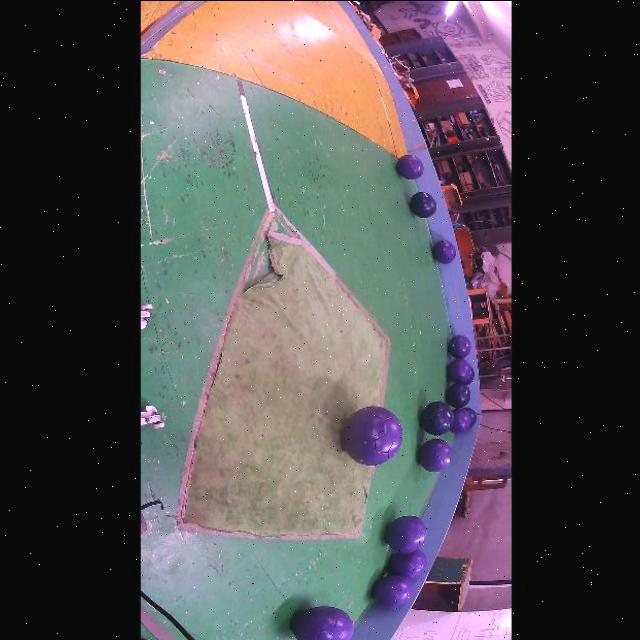B: (420, 400, 453, 434), (410, 191, 437, 217), (446, 382, 470, 407), (464, 407, 477, 427)
P: (341, 405, 402, 465), (292, 605, 354, 640), (385, 515, 426, 553), (371, 574, 412, 607), (417, 438, 452, 471), (389, 549, 428, 578), (396, 154, 424, 178), (447, 358, 472, 382), (432, 239, 456, 263), (448, 334, 470, 358), (450, 407, 470, 433)
